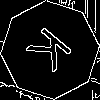K: (25, 25, 82, 80)
